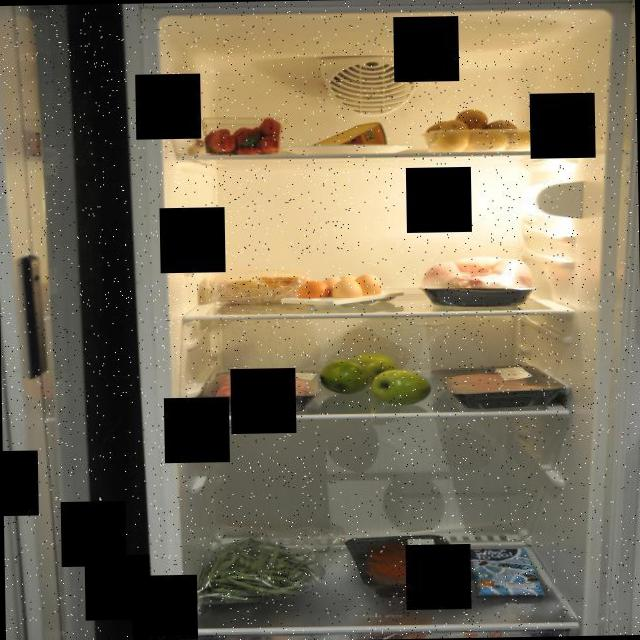Carne pollo: (417, 246, 542, 308), (426, 362, 568, 410)
Carne vacuno: (342, 532, 479, 600), (197, 366, 323, 414)
Huevos: (296, 272, 382, 306)
Manzana: (315, 347, 436, 412)
Patata: (414, 106, 552, 152)
Queso: (302, 116, 394, 154)
bread: (204, 268, 313, 306)
chocolate: (464, 546, 548, 598)
green_beans: (194, 534, 336, 612)
strawberries: (202, 115, 286, 156)
